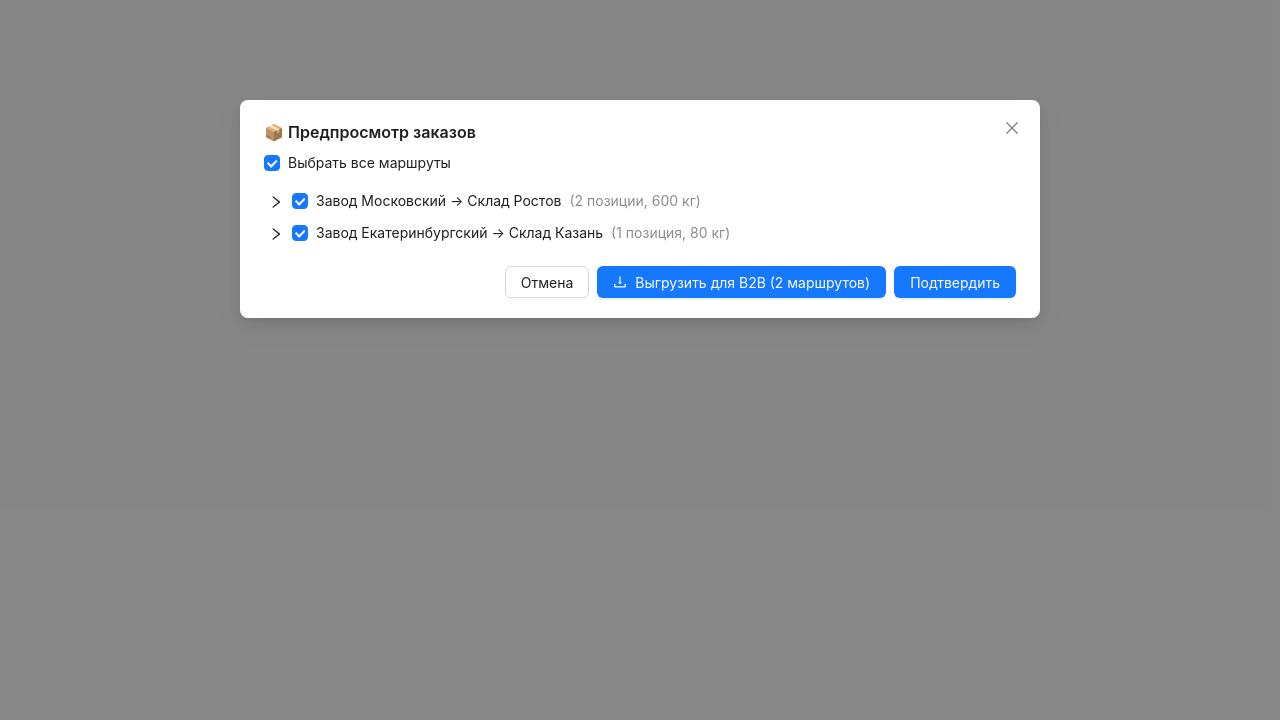
Scenario: OrderPreviewModal › disables B2B export when no routes are selected
Click the checkbox labelled "Выбрать все маршруты": [361, 163] box 264,152 -> 459,174
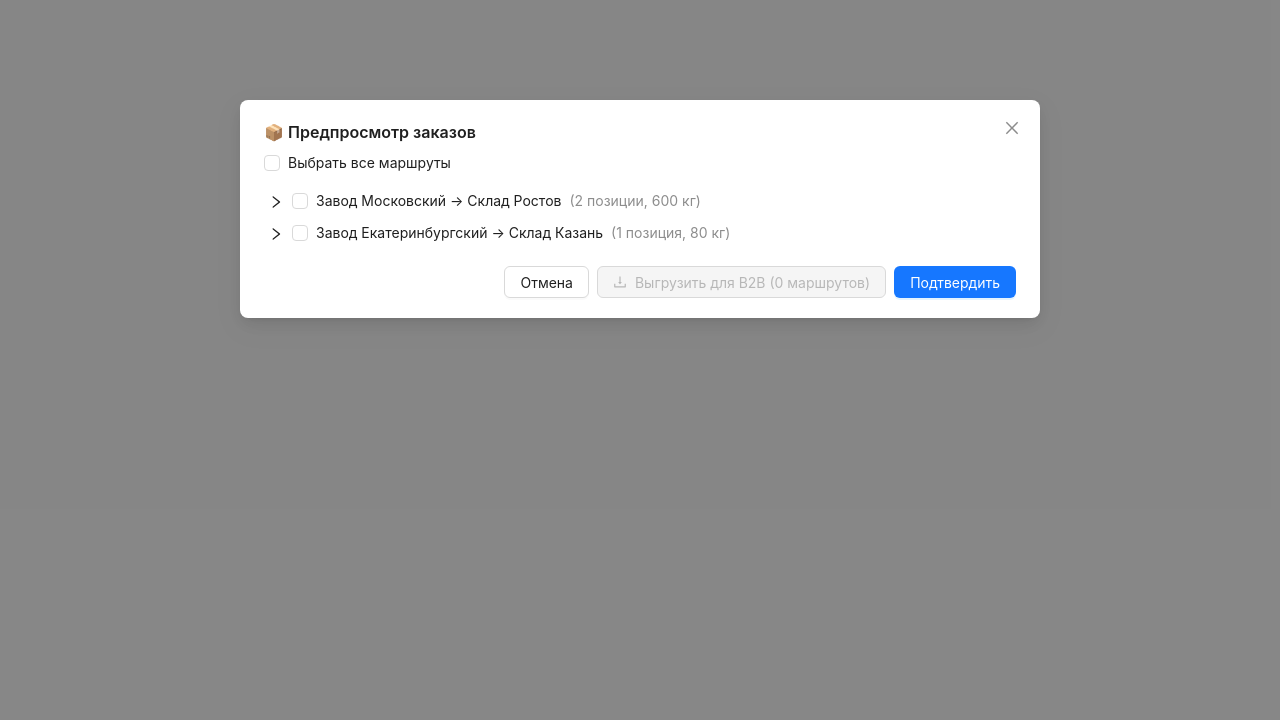
Now the button "Выгрузить для B2B (0 маршрутов)" is disabled, box 597,266 -> 886,298
